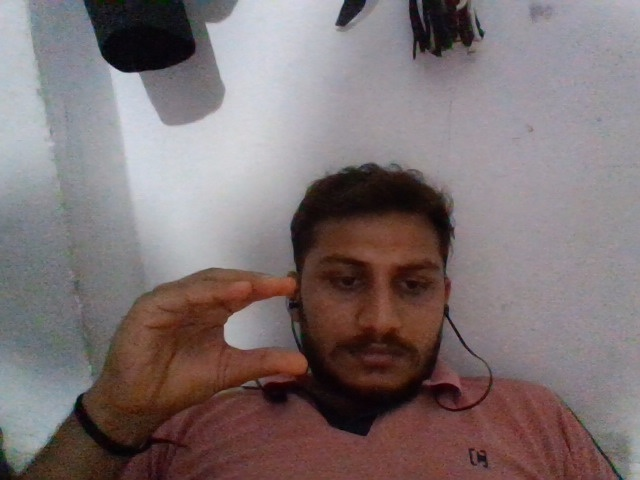No: (94, 251, 322, 417)
